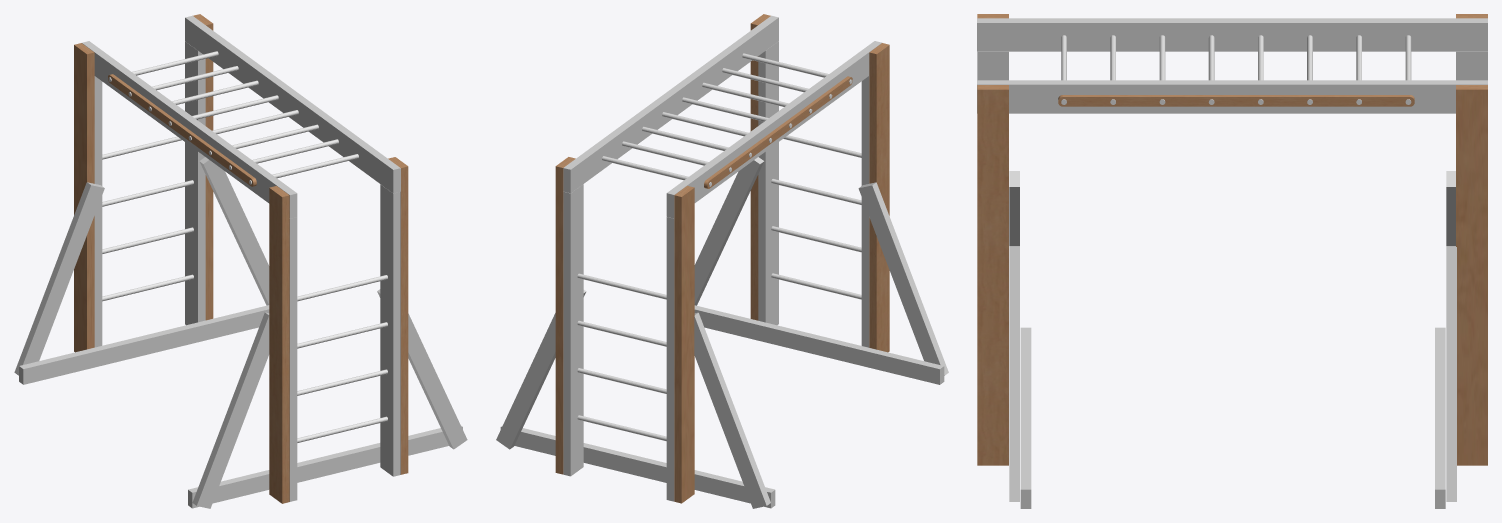
3 views of the same model, side by side, from view 1: azimuth 30°, elevation 25°; view 2: azimuth 150°, elevation 25°; view 3: azimuth 270°, elevation 25° (orthographic). The views are drawn at different scales.
Parts seen in each view (by area): view 1: Cube219, Cube219_1, Cube219_2; view 2: Cube219, Cube219_1, Cube219_2; view 3: Cube219, Cube219_1, Cube219_2.
Boxes of the visible parts, box(x1,y1,x2,y2) form: Cube219: box(14, 15, 467, 508); Cube219_1: box(74, 14, 408, 503); Cube219_2: box(102, 51, 387, 442); Cube219: box(496, 15, 948, 508); Cube219_1: box(555, 14, 889, 503); Cube219_2: box(577, 53, 861, 441); Cube219: box(977, 18, 1487, 508); Cube219_1: box(977, 14, 1487, 465); Cube219_2: box(1061, 35, 1411, 104).
Size of the model in its own units: 1.83 by 1.99 by 2.44.
Materials: 3 (1 with a texture image).
